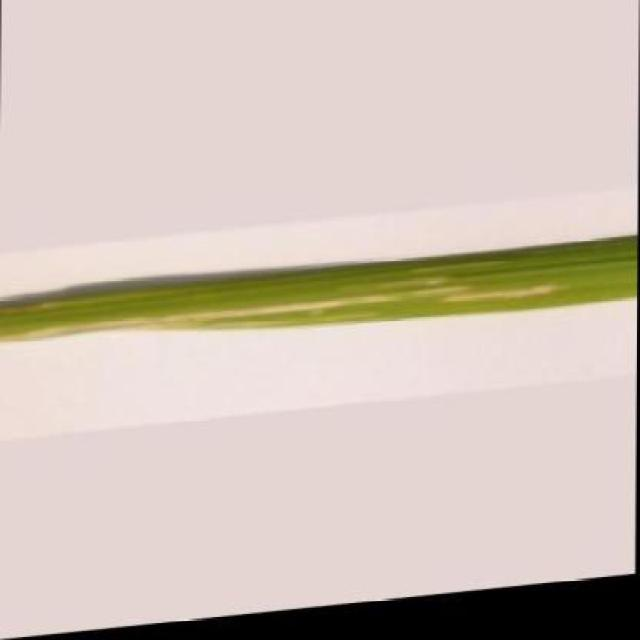Brown_Spot: (0, 240, 638, 373)
